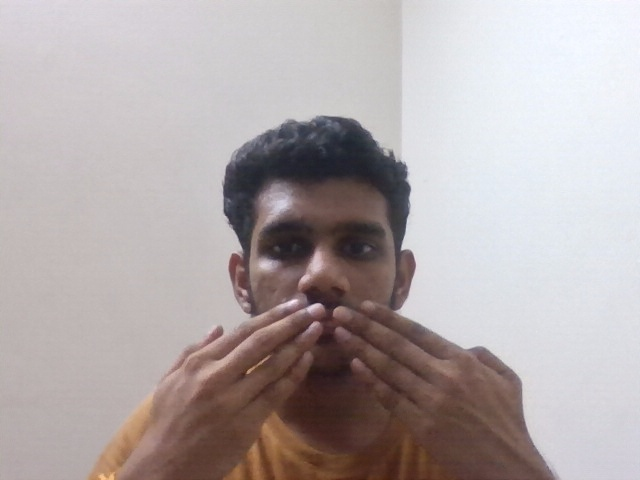thanks: (138, 272, 534, 468)
